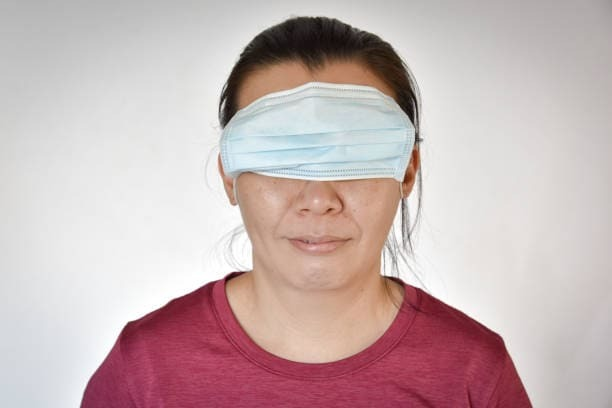with_incorrect_mask: (238, 79, 399, 278)
